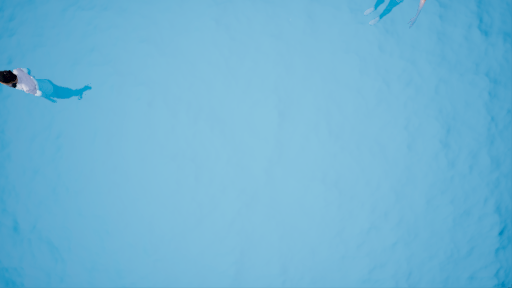person: (1, 67, 90, 106)
